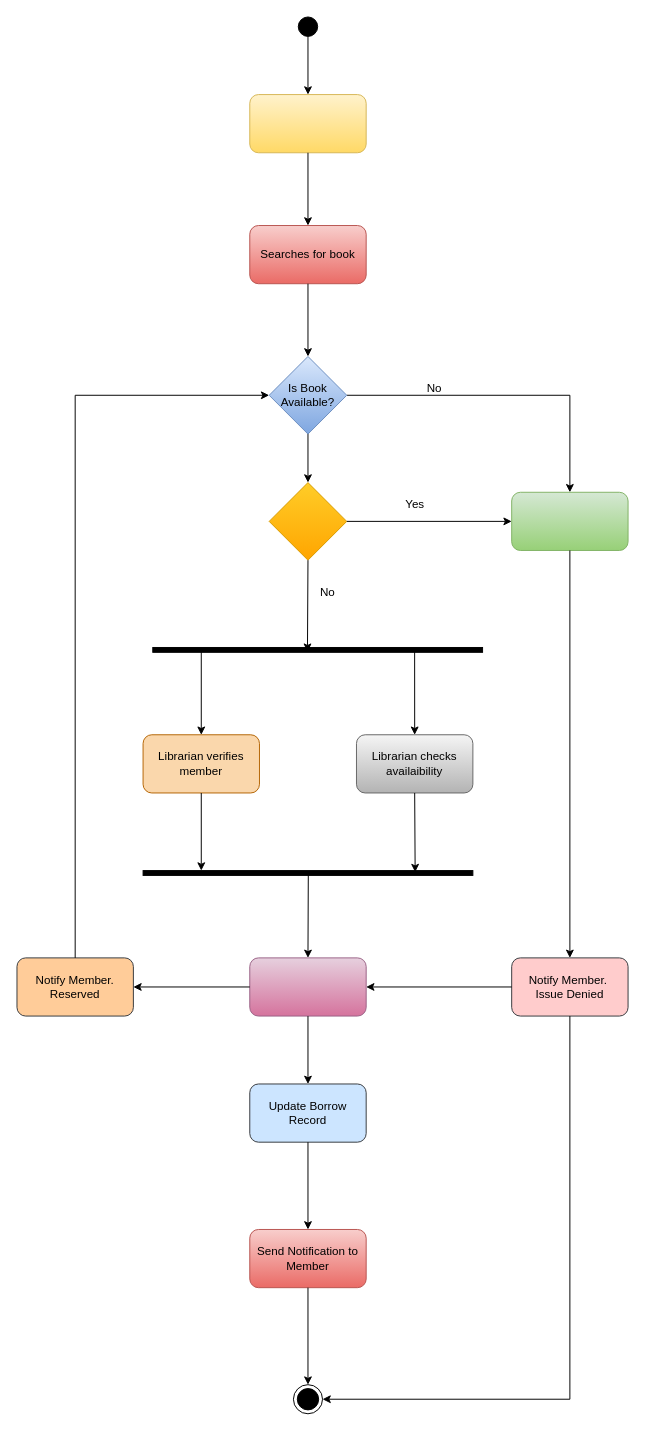
This 645x1431 diagram has some shape labels left out. The shapes that lost their labels are listed below. From the top down, each one's centre as x and y in pixels, then its label:
At point 307,123: "Member logs in".
At point 307,521: "Can I Issue Book?".
At point 569,520: "Member requests Book".
At point 307,986: "Issue Book".
